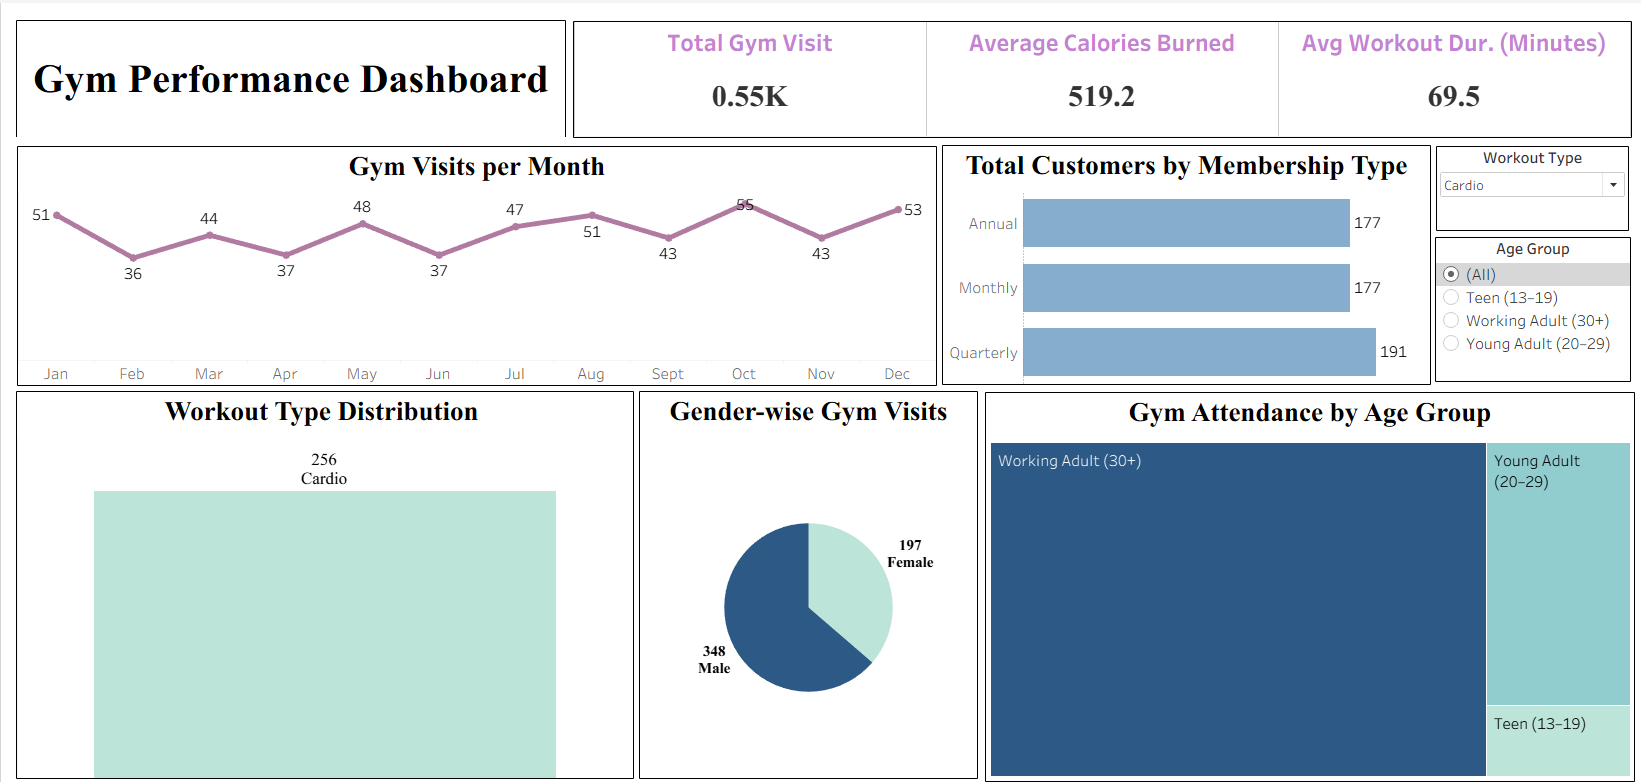

This screenshot's page, from the dashboard's own definition file:
{"tool":"tableau","page":{"name":"Dashboard 1","canvas":[1000,1000],"units":"permille","ordinal":0},"visuals":[{"type":"text","box":[9.1,21.2,335.2,149.8]},{"type":"worksheet","title":"KPI","mark":"Automatic","box":[348.6,22.9,645.3,149]},{"type":"worksheet","title":"Sheet 7","mark":"Automatic","rows":["membership_type"],"cols":["Calculation_1312300851118081"],"box":[573.4,180.9,298,305.7]},{"type":"worksheet","title":"Visit Per month","mark":"Line","rows":["Calculation_1312300855013381"],"cols":["visit_date"],"box":[9.8,182.2,560.6,305.7]},{"type":"filter","title":"Sheet 3","param":"[federated.1lb4h2u1jo8e2a10v53o61n44im6].[none:workout_type:nk]","box":[874.5,182.2,117.6,108.3]},{"type":"filter","title":"Sheet 3","param":"[federated.1lb4h2u1jo8e2a10v53o61n44im6].[none:Calculation_1312300850188288:nk]","box":[873.9,298.1,119.4,184.7]},{"type":"worksheet","title":"Sheet 3","mark":"Bar","rows":["Calculation_1312300855013381"],"cols":["workout_type"],"box":[9.1,494.3,376.6,494.3]},{"type":"worksheet","title":"Sheet 6","mark":"Pie","box":[388.8,494.3,206.6,494.3]},{"type":"worksheet","title":"Sheet 5","mark":"Automatic","box":[599.6,495.5,396.1,496.8]}]}

Visuals, with their boxes on the dashboard's canvas, which has no fixed pixel size, in thousandths of its width and height (x1, y1, x2, y2). These are canvas units, not pixel positions in the 1641x782 screenshot, which may show the page scaled, cropped or inside an application window:
text: pyautogui.locateOnScreen(9, 21, 344, 171)
"KPI" worksheet: pyautogui.locateOnScreen(349, 23, 994, 172)
"Sheet 7" worksheet: pyautogui.locateOnScreen(573, 181, 871, 487)
"Visit Per month" worksheet (Line marks): pyautogui.locateOnScreen(10, 182, 570, 488)
"Sheet 3" filter: pyautogui.locateOnScreen(874, 182, 992, 290)
"Sheet 3" filter: pyautogui.locateOnScreen(874, 298, 993, 483)
"Sheet 3" worksheet (Bar marks): pyautogui.locateOnScreen(9, 494, 386, 989)
"Sheet 6" worksheet (Pie marks): pyautogui.locateOnScreen(389, 494, 595, 989)
"Sheet 5" worksheet: pyautogui.locateOnScreen(600, 496, 996, 992)
